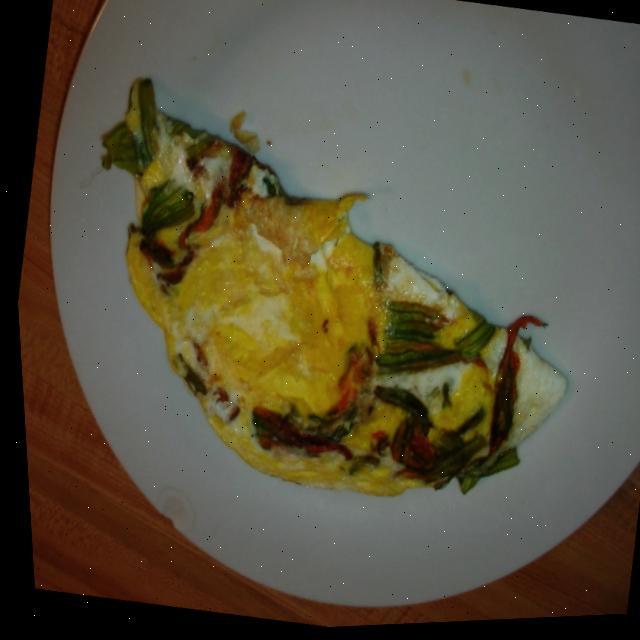鸡蛋料理: (1, 10, 640, 595)
